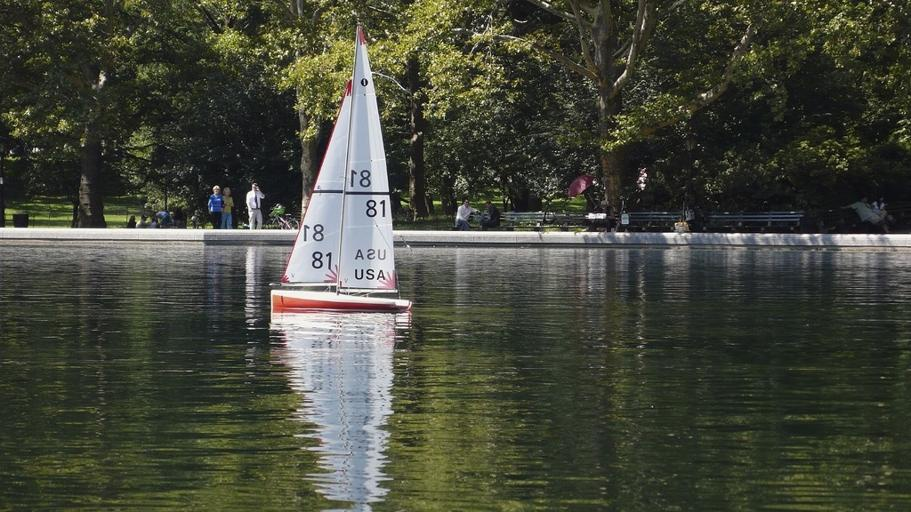non-vehicle: (264, 207, 299, 230), (542, 194, 568, 224)
